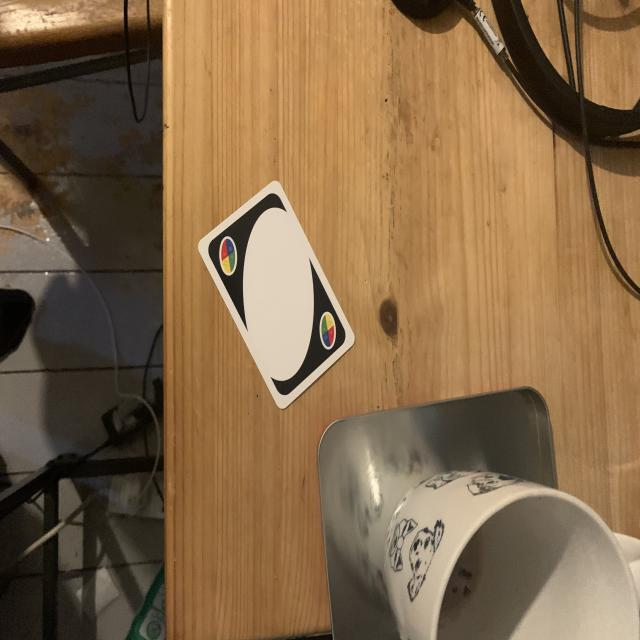lcolor-40: (210, 230, 244, 282)
